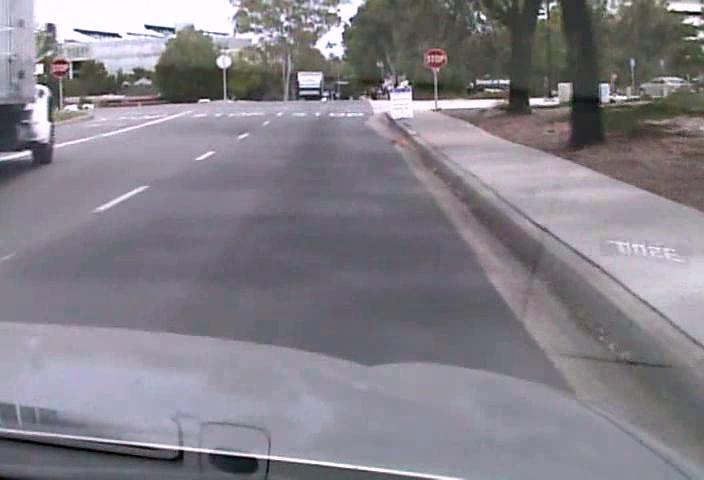stop: (422, 47, 447, 70)
